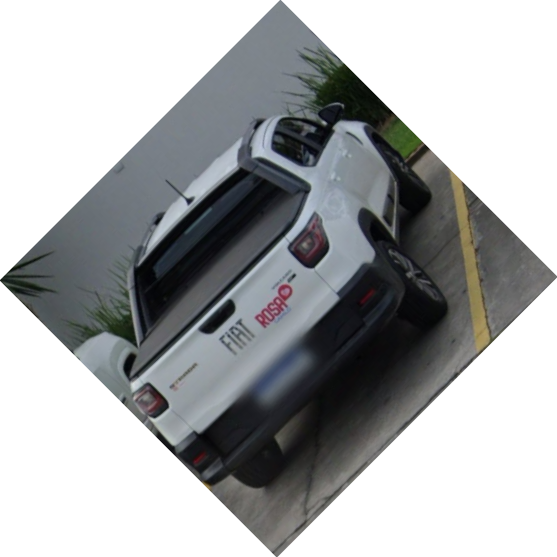car: (124, 102, 449, 492)
